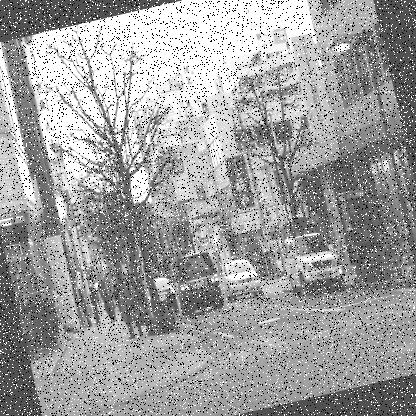Car: (134, 224, 345, 336), (282, 229, 346, 294), (170, 251, 226, 317), (220, 256, 264, 300), (143, 276, 180, 320)
